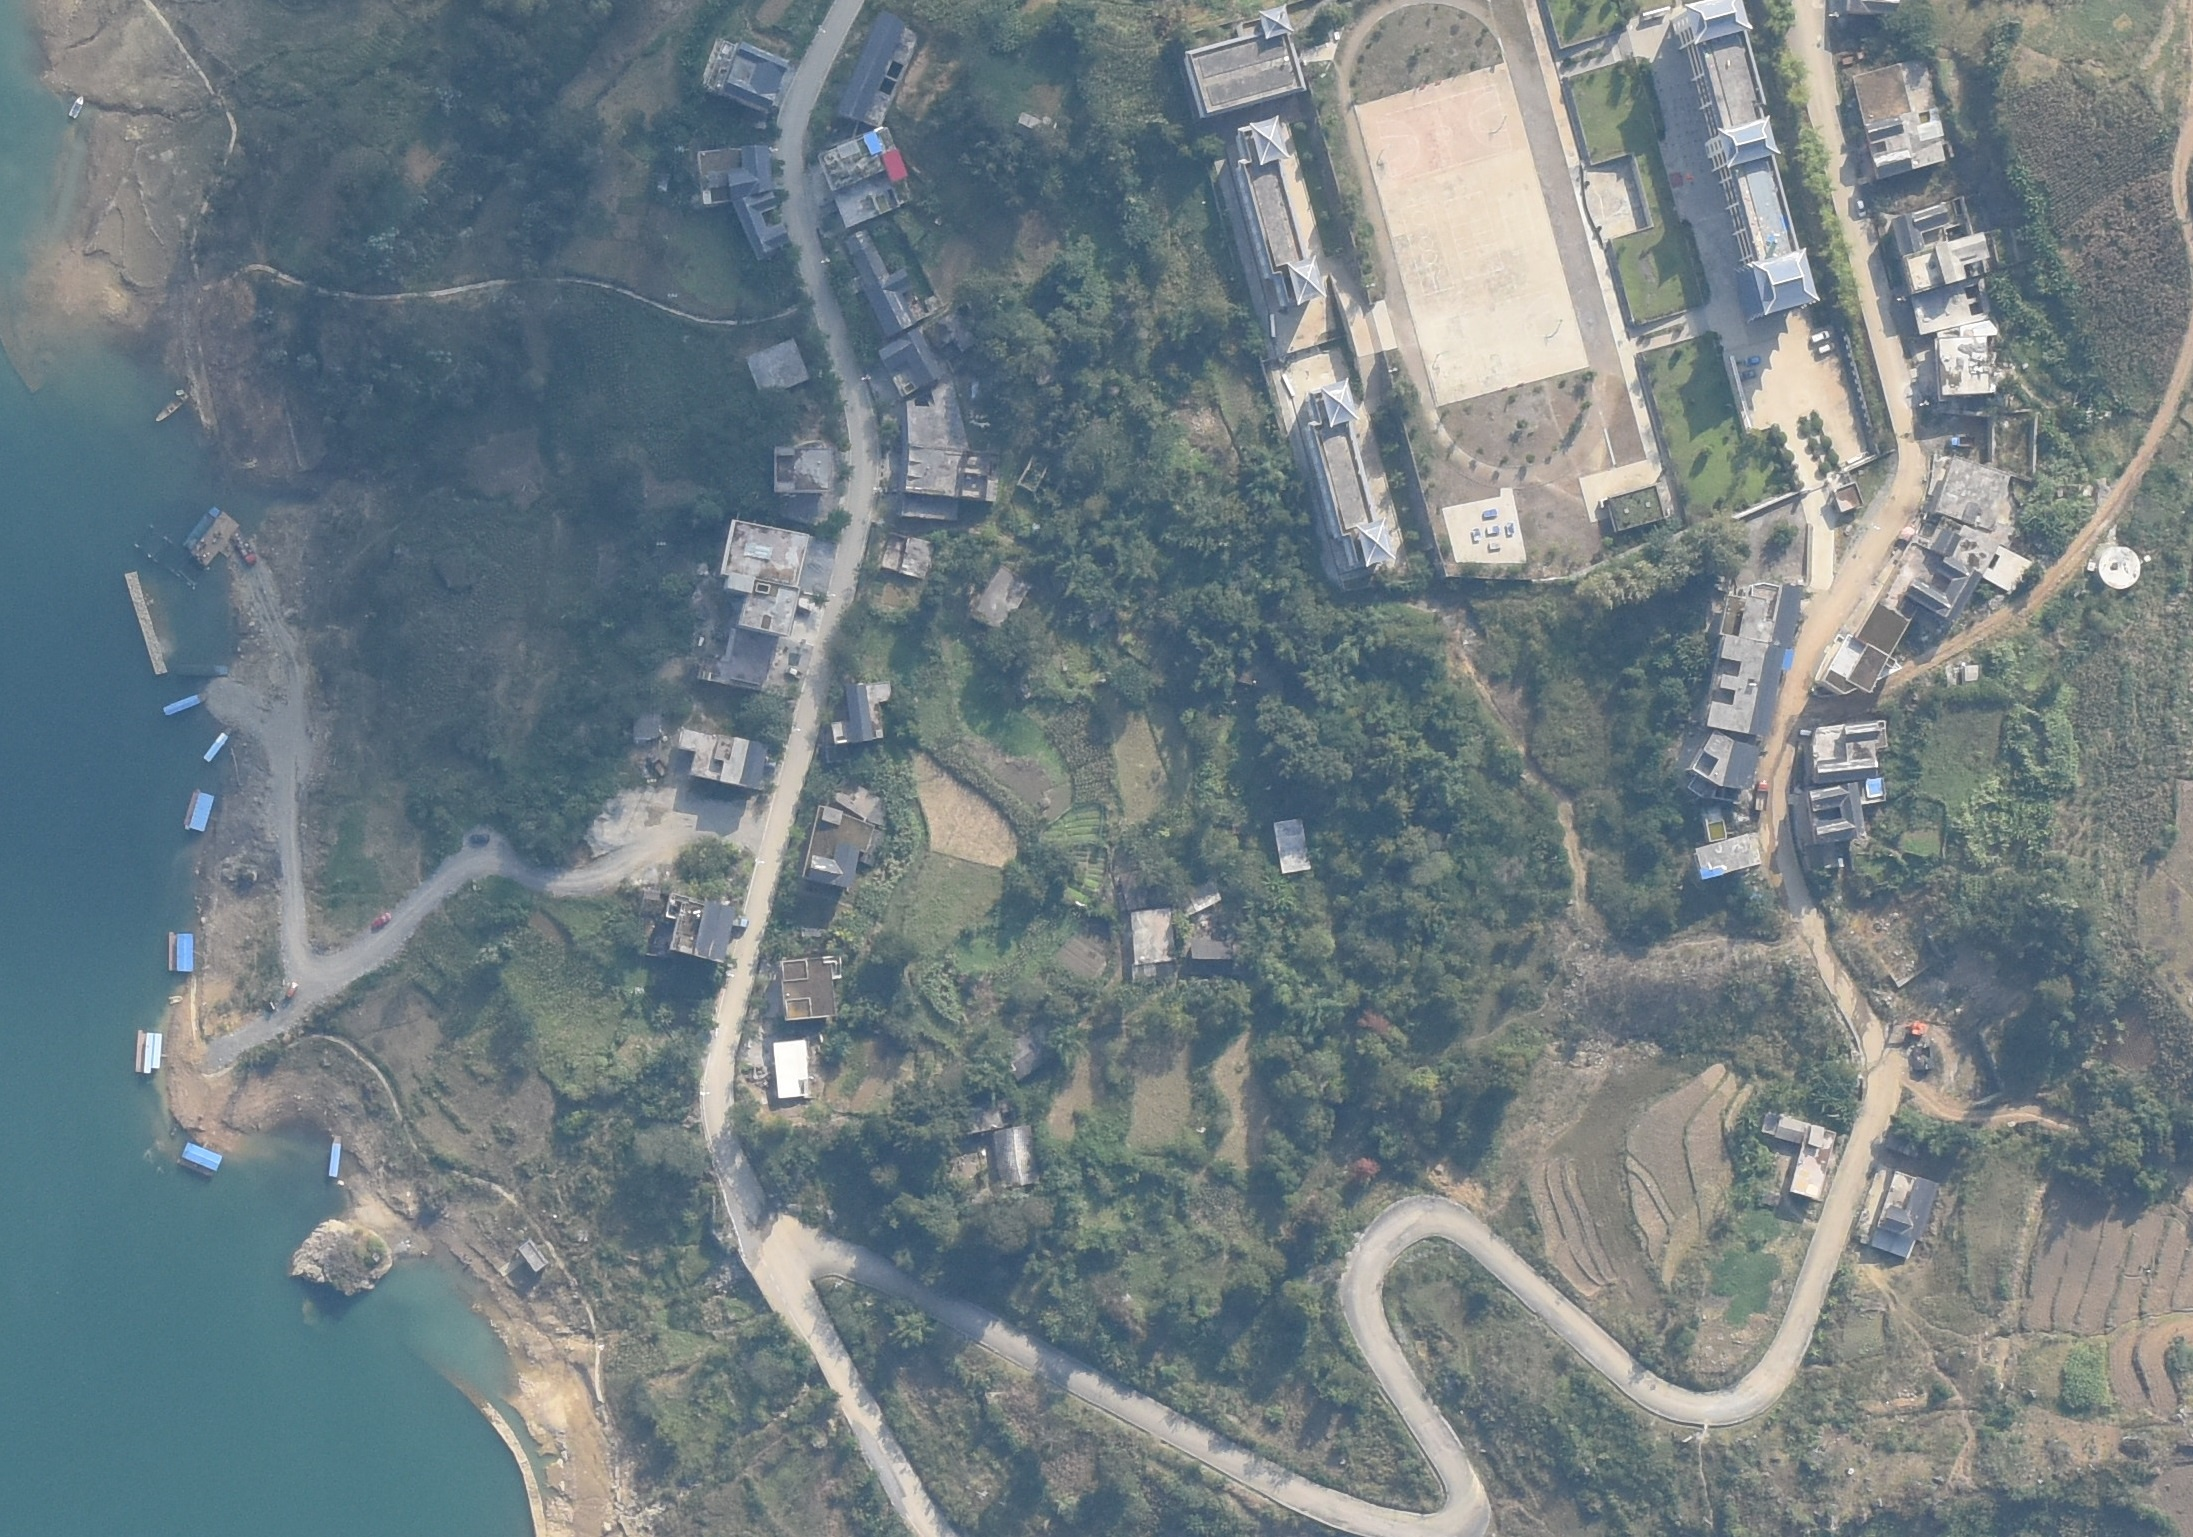building: (1672, 1, 1820, 321), (1302, 379, 1398, 568), (1235, 116, 1328, 308), (1184, 5, 1309, 117), (1893, 198, 1995, 330), (1853, 59, 1954, 179), (722, 520, 811, 635), (817, 125, 913, 229), (1906, 513, 1997, 619), (838, 9, 915, 127), (1818, 604, 1907, 696), (844, 229, 919, 336), (1855, 1166, 1936, 1258), (1705, 637, 1780, 736), (702, 37, 789, 113), (901, 451, 996, 519), (676, 727, 771, 792), (801, 805, 877, 885), (1928, 453, 2008, 529), (1719, 581, 1803, 646), (1689, 729, 1757, 805), (1936, 321, 2000, 396), (1812, 720, 1888, 782), (697, 144, 775, 204), (664, 894, 730, 962), (776, 956, 845, 1021), (878, 328, 941, 397), (971, 564, 1033, 629), (1805, 781, 1865, 848), (734, 190, 788, 259), (832, 682, 892, 743), (1791, 1124, 1836, 1202), (1002, 1023, 1062, 1079), (1693, 834, 1764, 879), (832, 784, 897, 828), (1604, 486, 1666, 532), (994, 1128, 1038, 1189), (1131, 907, 1177, 961), (881, 533, 932, 580), (901, 402, 952, 446), (773, 1040, 811, 1099), (924, 308, 976, 351), (1274, 818, 1312, 872), (1984, 547, 2029, 592), (959, 1099, 1009, 1134), (1174, 881, 1221, 917), (1188, 940, 1233, 975), (1761, 1111, 1806, 1145), (1118, 870, 1150, 908), (1013, 111, 1050, 141), (519, 1239, 549, 1272), (1833, 484, 1865, 512), (1700, 805, 1725, 840), (1131, 963, 1174, 983), (1945, 665, 1980, 686), (1862, 777, 1887, 804), (1799, 728, 1812, 737)
cultivation-mesh-cage: (133, 521, 197, 590)
prefabricated-house: (178, 1142, 222, 1178), (183, 788, 215, 831), (135, 1032, 161, 1074), (167, 932, 194, 972)
ship: (183, 504, 219, 552), (203, 725, 231, 766), (163, 691, 209, 715), (155, 389, 188, 422), (176, 664, 229, 676), (328, 1134, 341, 1178), (68, 95, 85, 120)
vehicle: (745, 335, 810, 394), (773, 446, 828, 492), (231, 531, 258, 564), (1755, 782, 1769, 813), (371, 912, 391, 931), (783, 666, 806, 680), (1951, 435, 1975, 448), (285, 981, 299, 1001), (1740, 355, 1764, 366), (468, 833, 491, 844), (1856, 198, 1867, 220), (1818, 342, 1836, 353), (1812, 331, 1830, 341), (732, 918, 749, 928), (1741, 370, 1757, 380)
well: (2097, 545, 2141, 591)
